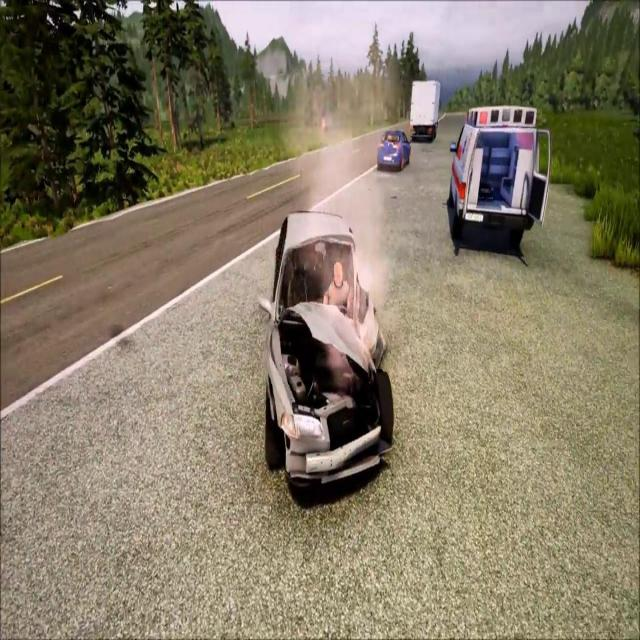accident: (257, 204, 395, 506)
